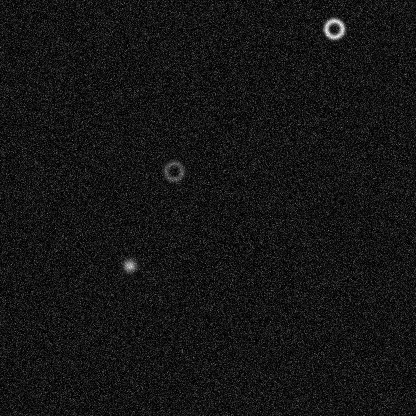Ring: (321, 16, 345, 40), (161, 159, 185, 183)
Spot: (121, 257, 137, 273)
